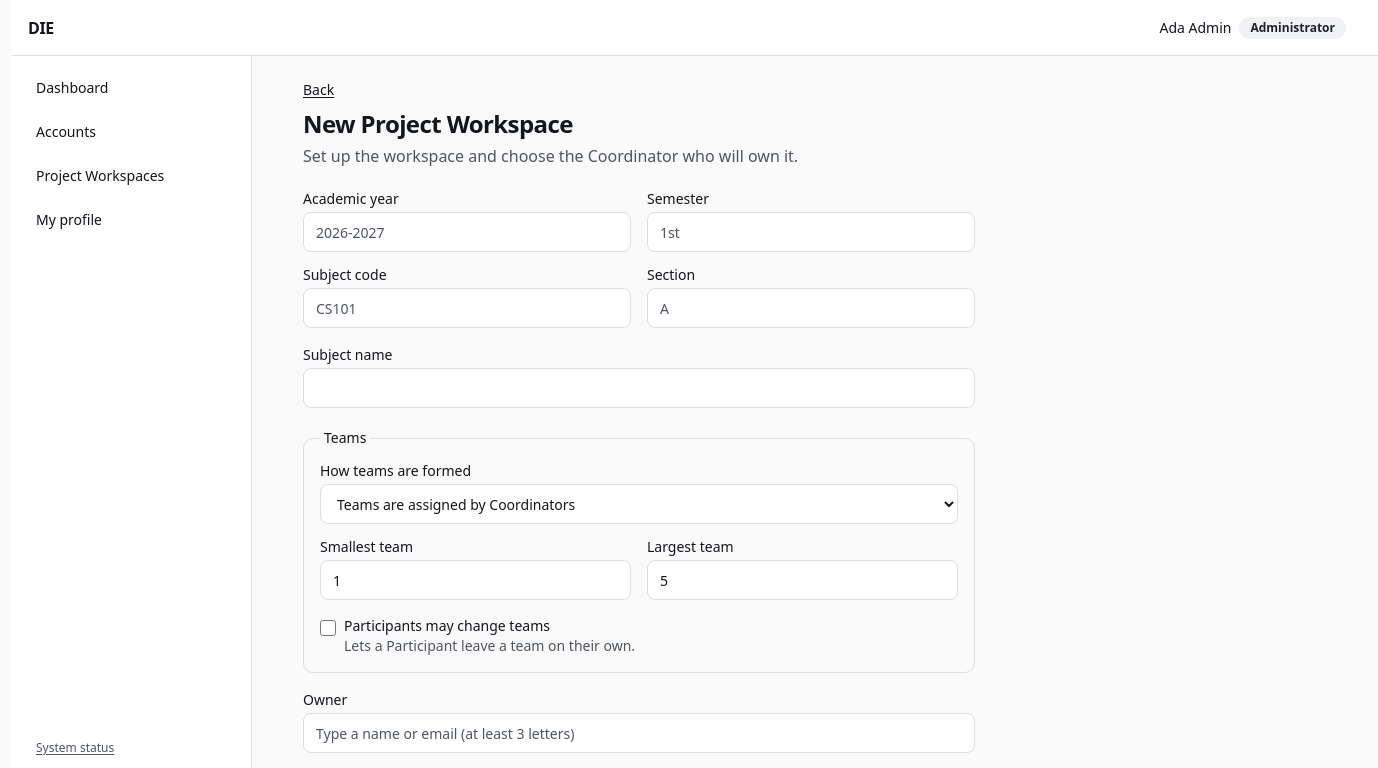
Test: Create a Project Workspace › waits for three characters before searching
Type "ca" into the search field labelled "Owner" at (639, 733), box [303,713,975,753]
(page scrolled)
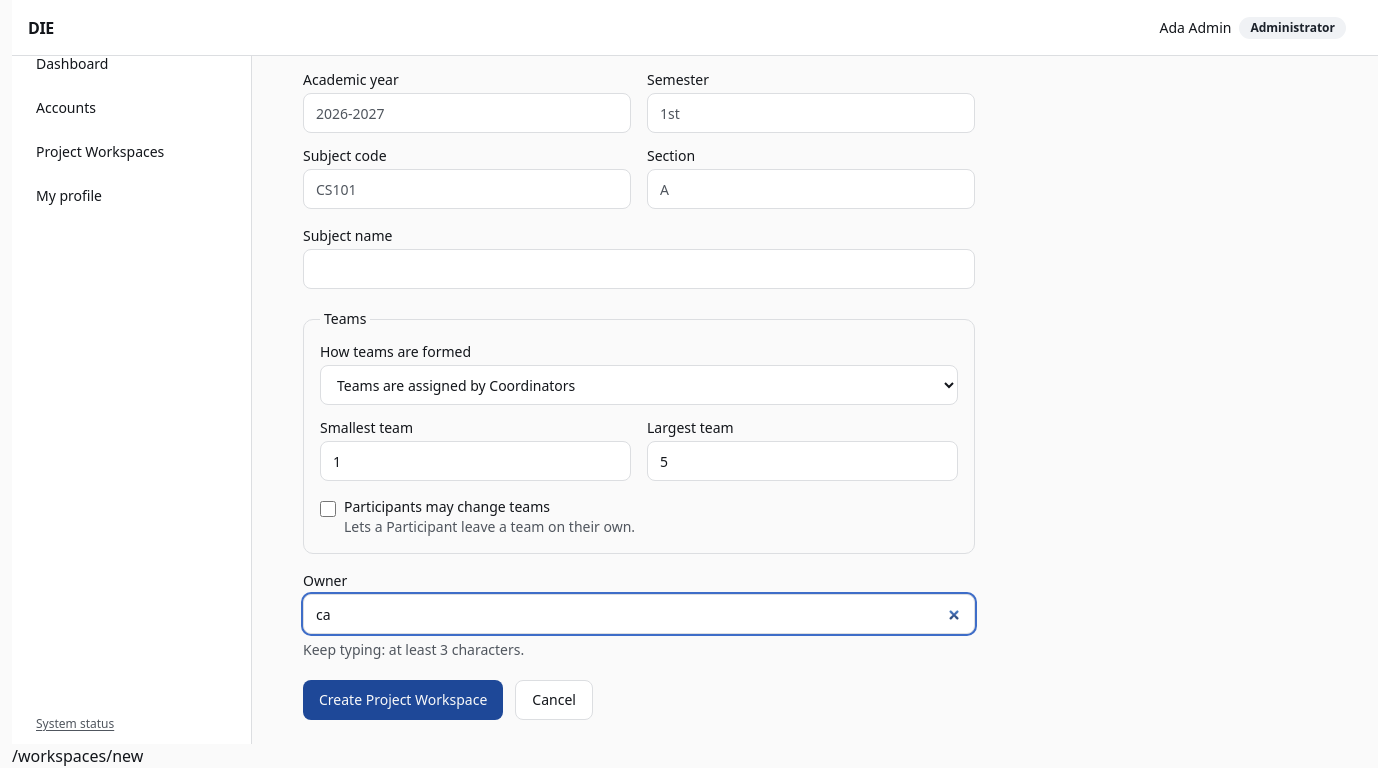
Expected: the text "Keep typing: at least 3 characters." is shown, [303,640,524,659]
